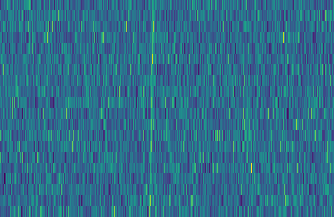signal: (144, 0, 157, 217)
